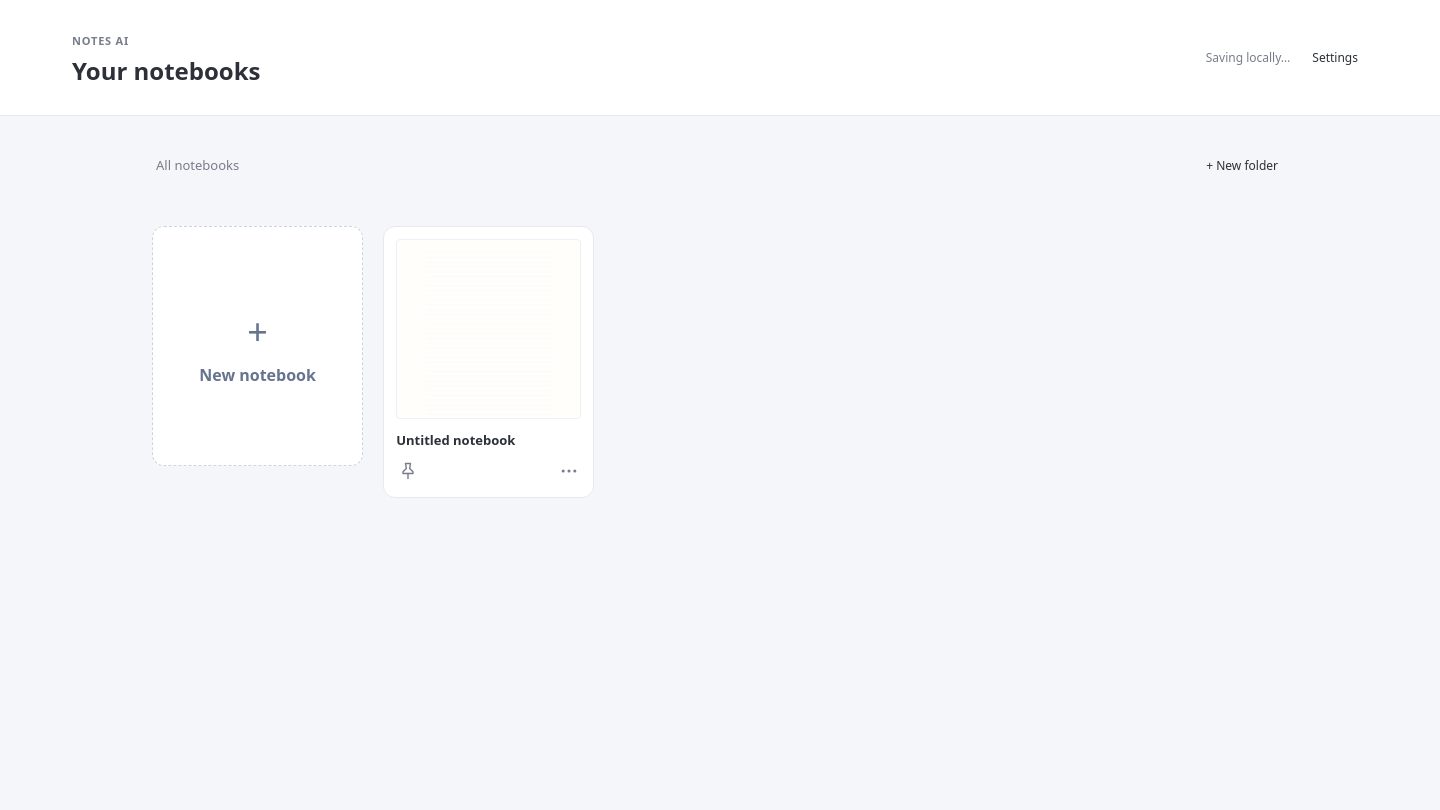
Test: App (Phase 2 Writing Tools) › keeps notebook actions behind the overflow button and dismisses it with Escape or an outside click
This screenshot has width=1440, height=810.
Expected: the button "+ New notebook" is shown, 152,226 -> 363,466
Expected: the button "Rename" is not shown
Click the button named "Pin": (408, 471) 392,455 -> 424,487
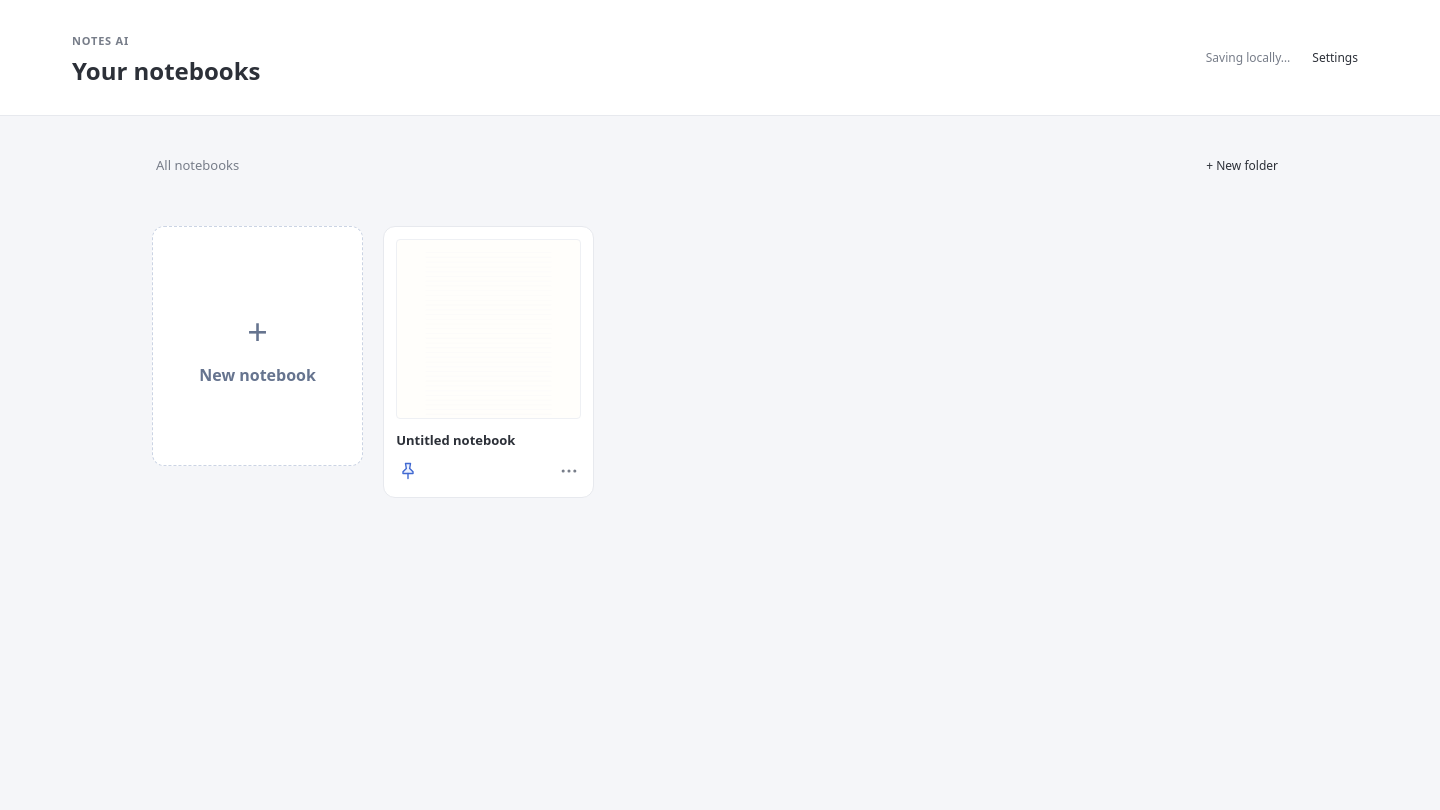
Expected: the button named "Unpin" is pressed, 392,455 -> 424,487
Click the button named "Notebook actions for Untitled notebook": (569, 471) 553,455 -> 585,487
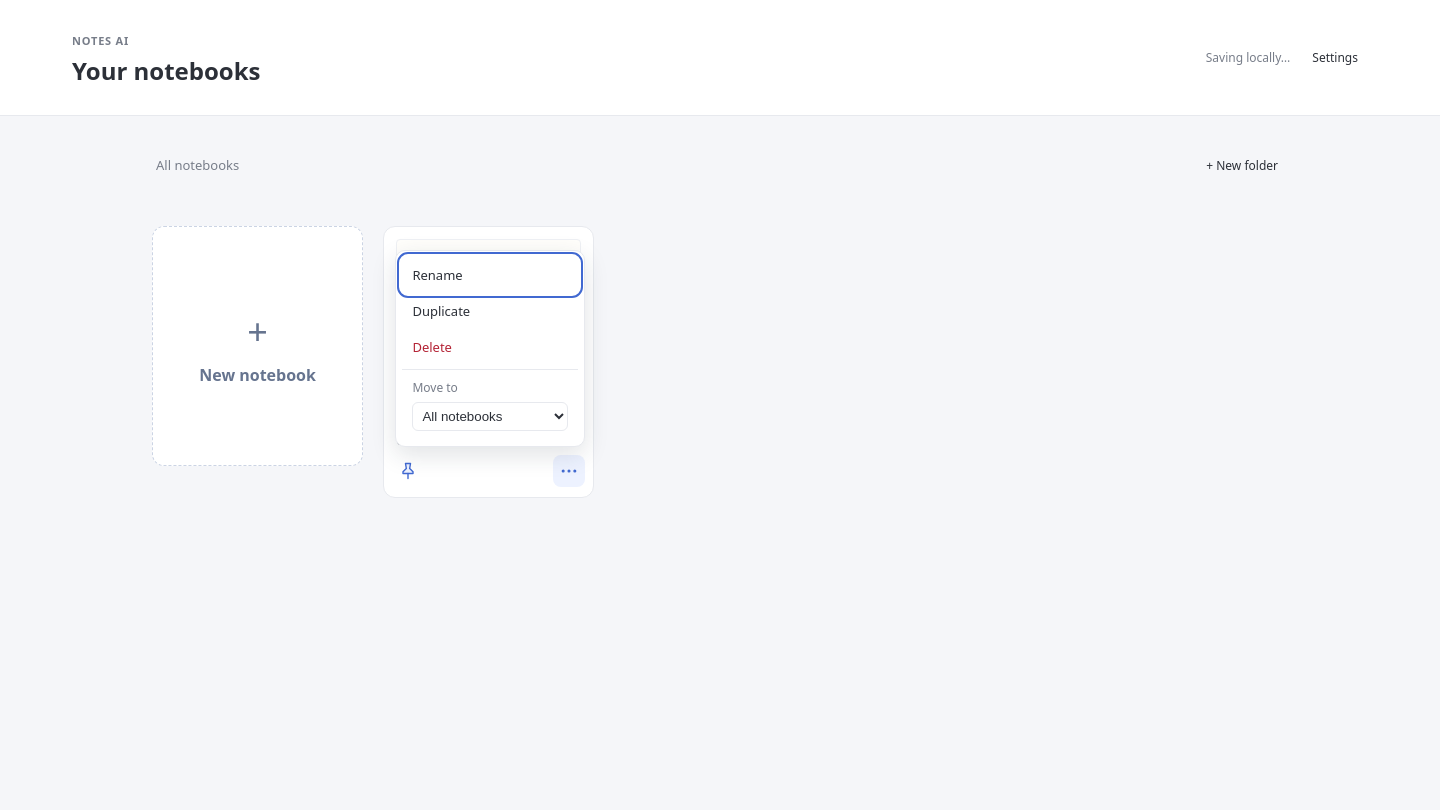
Expected: the button "Duplicate" is shown, 402,293 -> 578,329
Press Escape
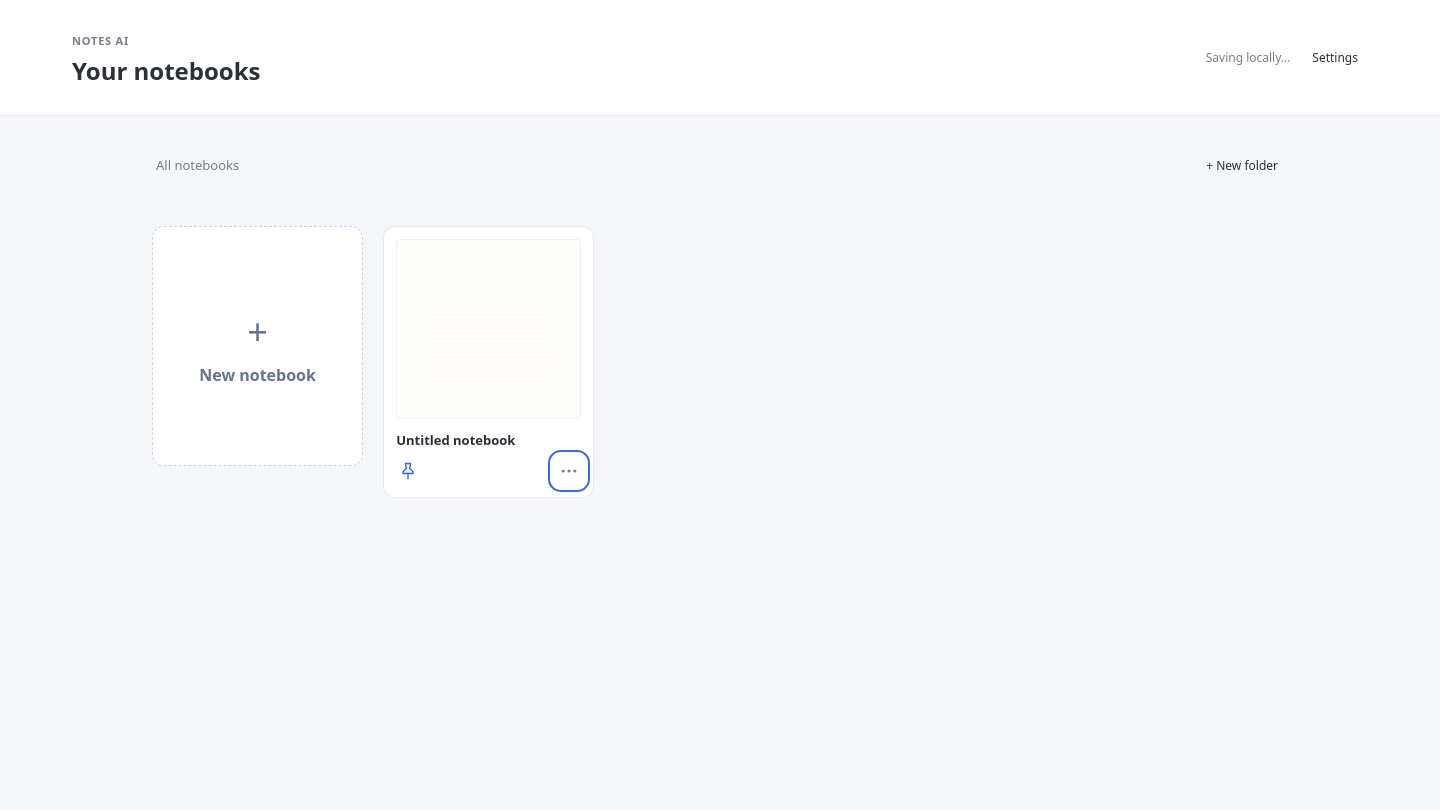
Expected: the button named "Notebook actions for Untitled notebook" is collapsed
Click the button named "Notebook actions for Untitled notebook": (569, 471) 553,455 -> 585,487
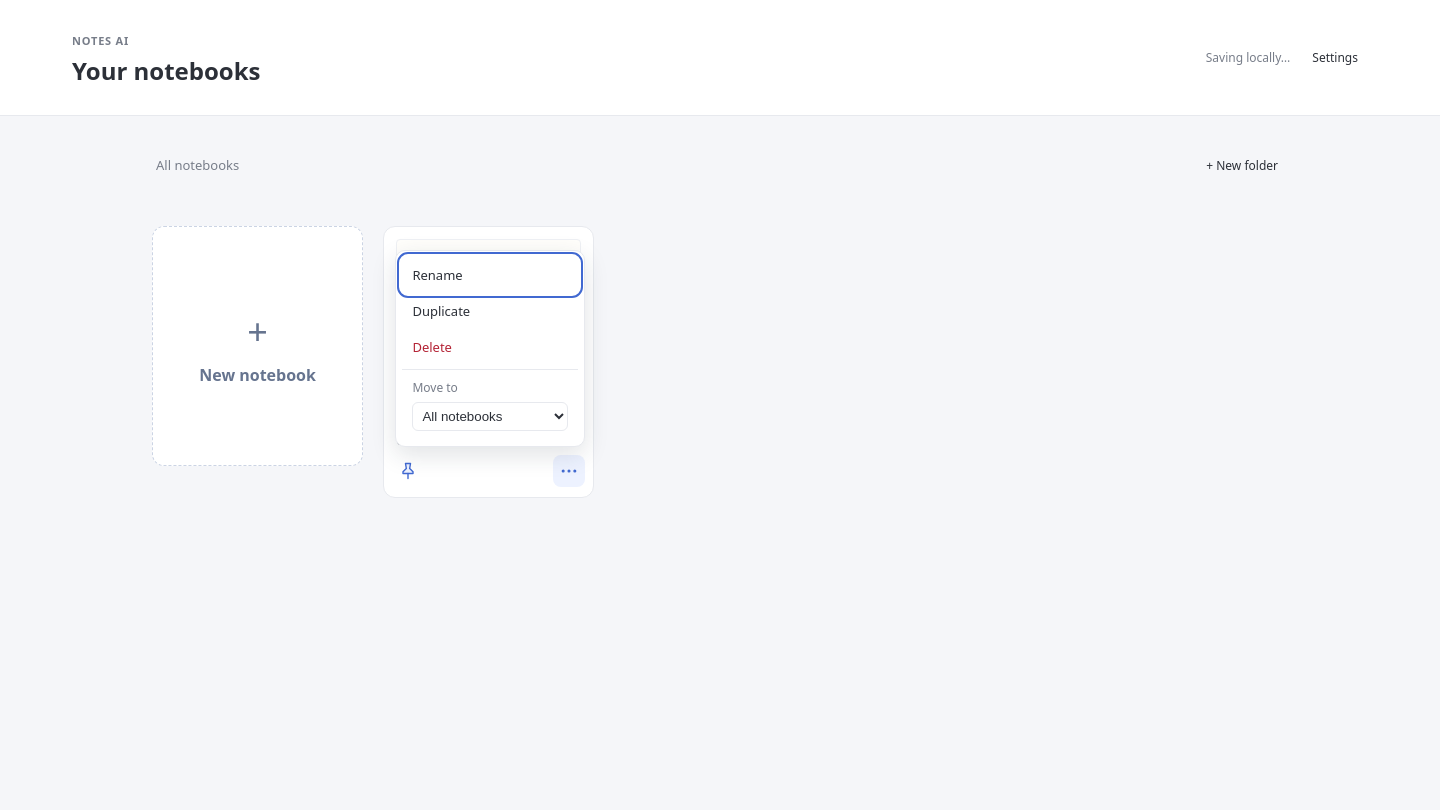
Press the mouse on the element that starts with "NOTES AI": (720, 405) 0,0 -> 1439,809
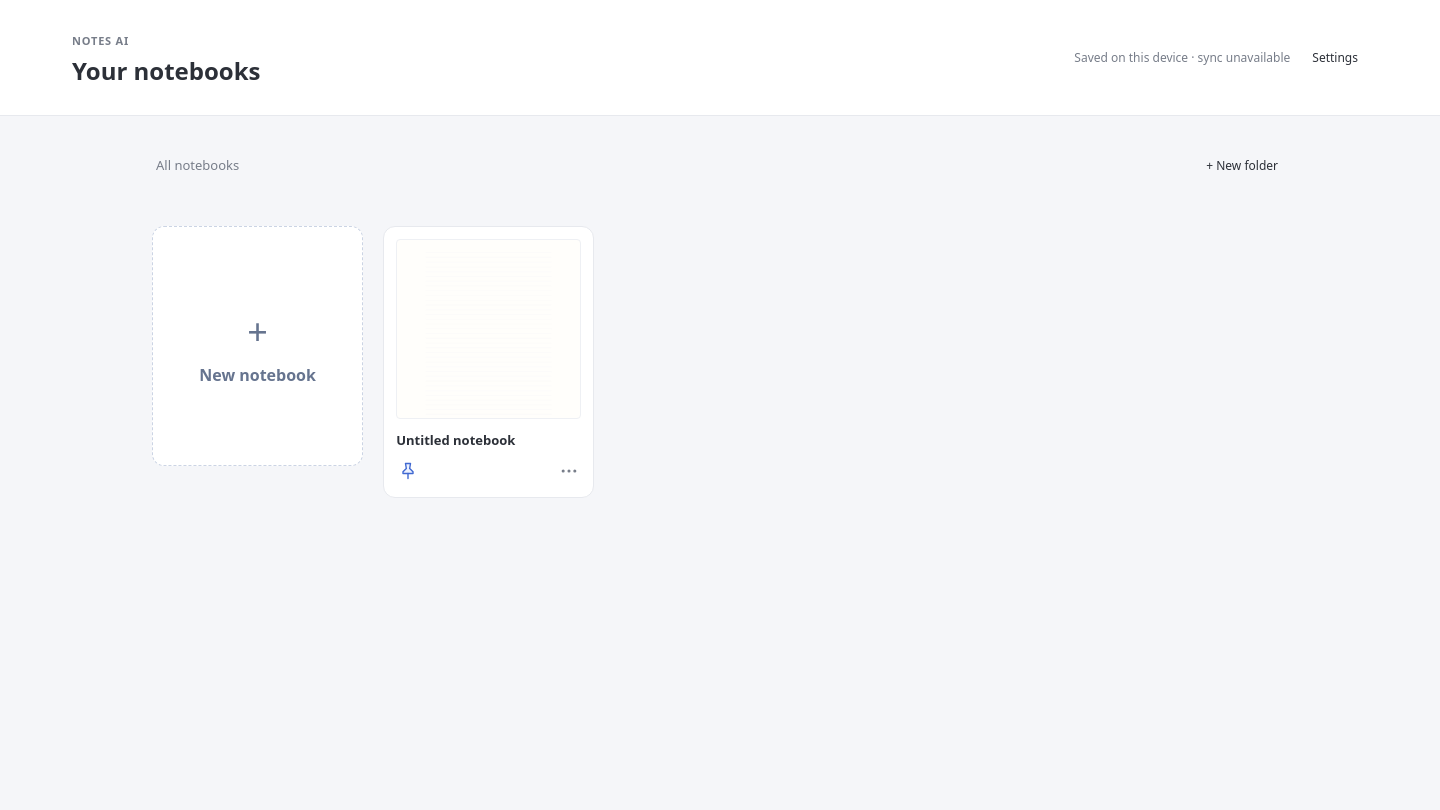
Expected: the button "Delete" is gone
